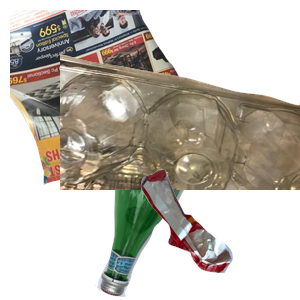glass: (93, 143, 284, 300)
paper: (10, 10, 230, 188)
plastic: (60, 52, 300, 232)
trash: (139, 167, 300, 300)
